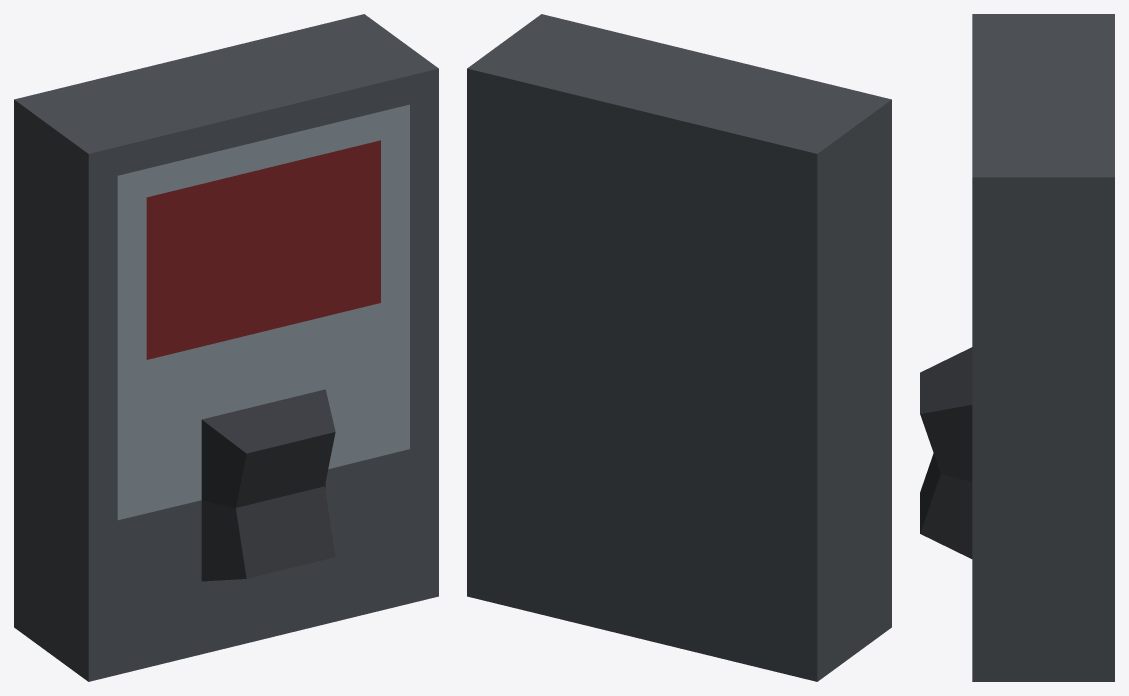
File: SM_Prop_Range_Switch_01.obj
The picture shows the model from 3 angles, left to right: view 1: azimuth 30°, elevation 25°; view 2: azimuth 150°, elevation 25°; view 3: azimuth 270°, elevation 25°; orthographic projection. The views are drawn at different scales.
Parts seen in each view (by area): view 1: SM_Prop_Range_Switch_01_0; view 2: SM_Prop_Range_Switch_01_0; view 3: SM_Prop_Range_Switch_01_0.
Part boxes in pixels (x1,y1,x2,y2): SM_Prop_Range_Switch_01_0: [14, 14, 438, 681]; SM_Prop_Range_Switch_01_0: [467, 14, 891, 681]; SM_Prop_Range_Switch_01_0: [920, 14, 1114, 681].
Bounding box in the file's own units: 0.1717 × 0.2473 × 0.0865.
1 material, 1 textured.
